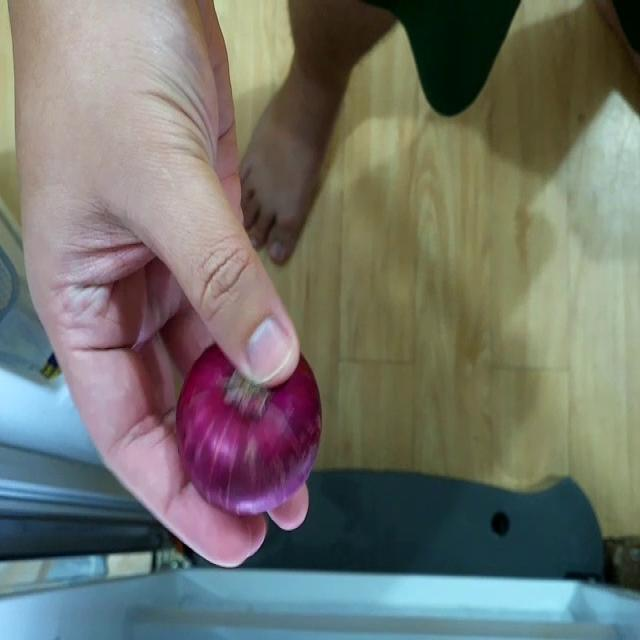onion: (180, 346, 327, 513)
